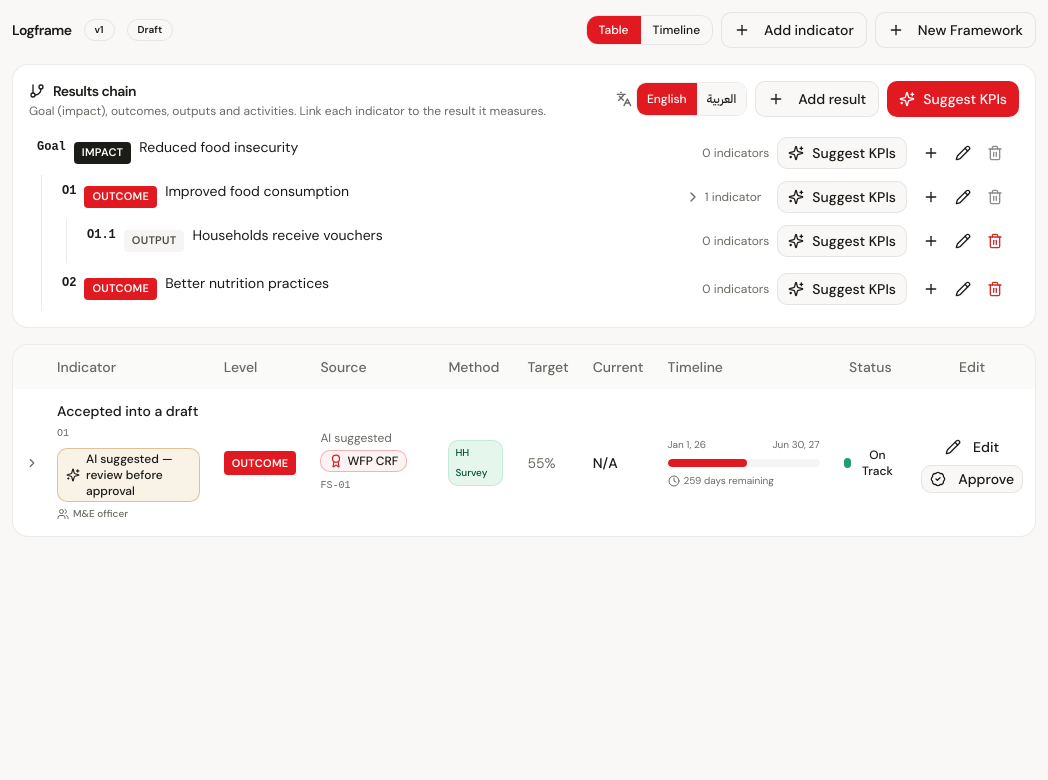
IndicatorTable › lets an org admin approve an accepted KPI suggestion in a draft framework, which removes its AI label (UX-03)
expect the text "AI suggested — review before approval" is shown: met, box top-left (57, 448), bottom-right (200, 502)
What coordinates should you click on to do the following:
click the button with aria-label "Approve Accepted into a draft"
I would click on:
 (972, 478)
Its box is top-left (921, 464), bottom-right (1023, 492).
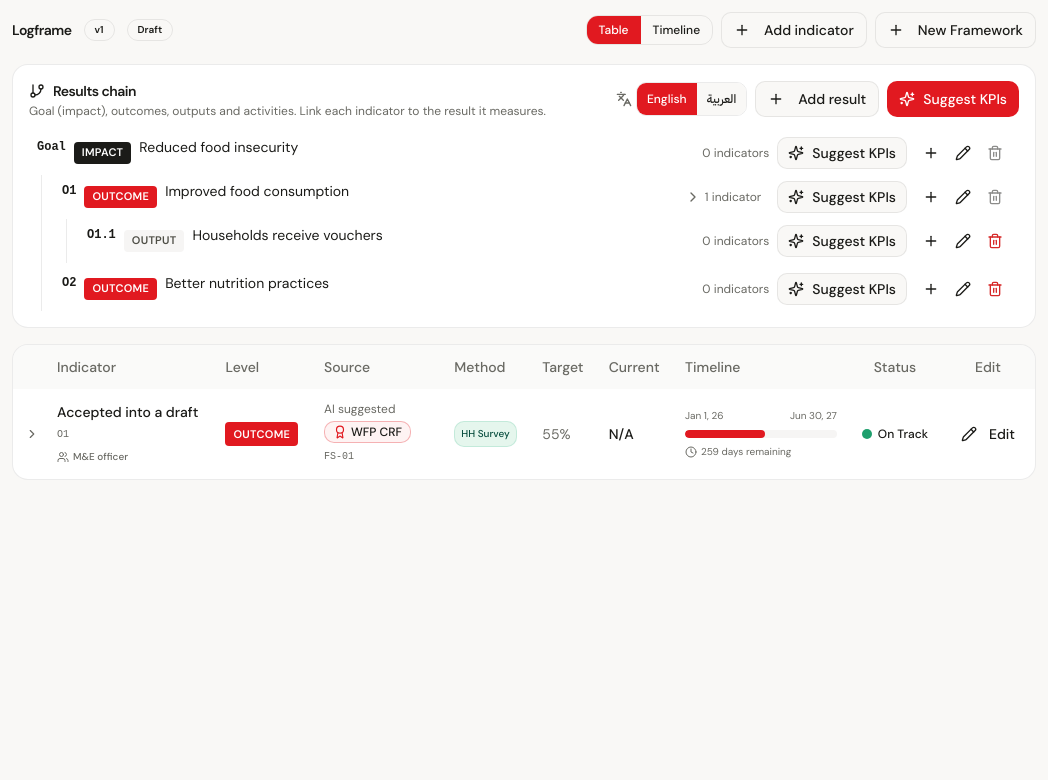
expect the text "AI suggested — review before approval" is gone: met
